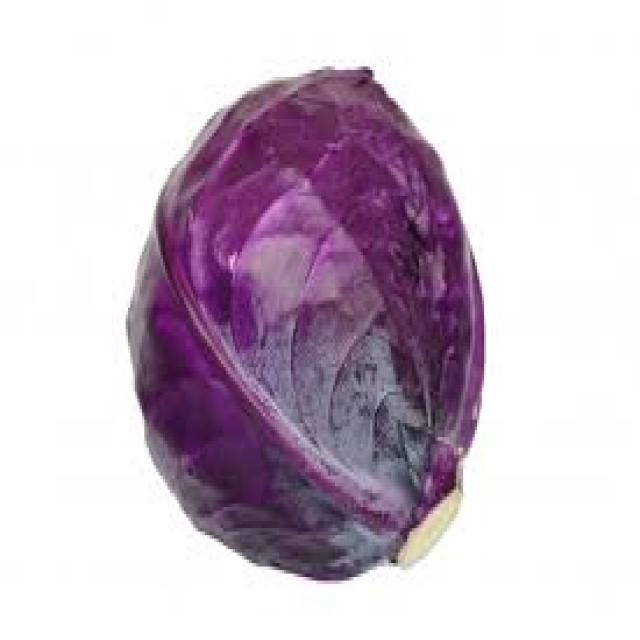cabbage: (107, 52, 496, 594)
